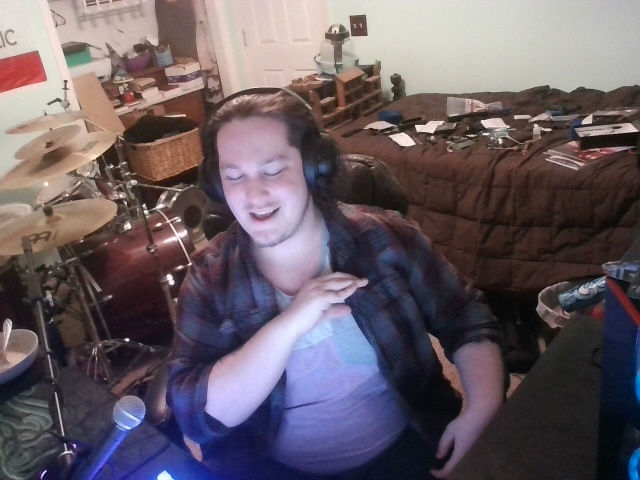police: (297, 261, 382, 339)
